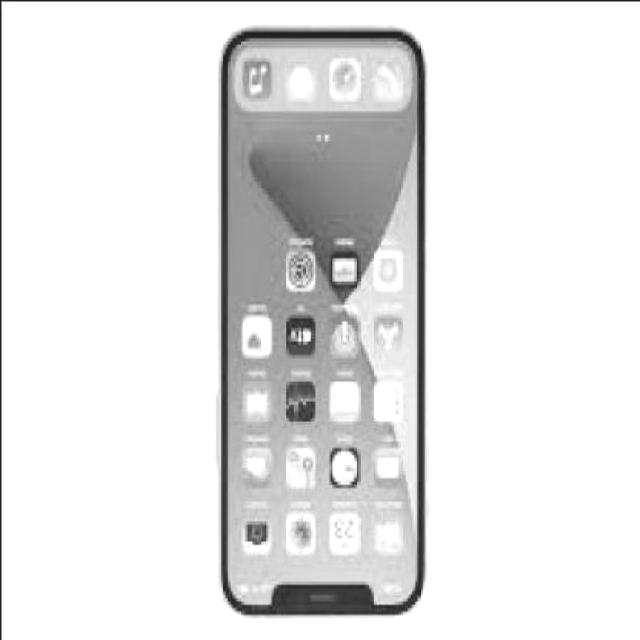fake: (218, 23, 422, 614)
